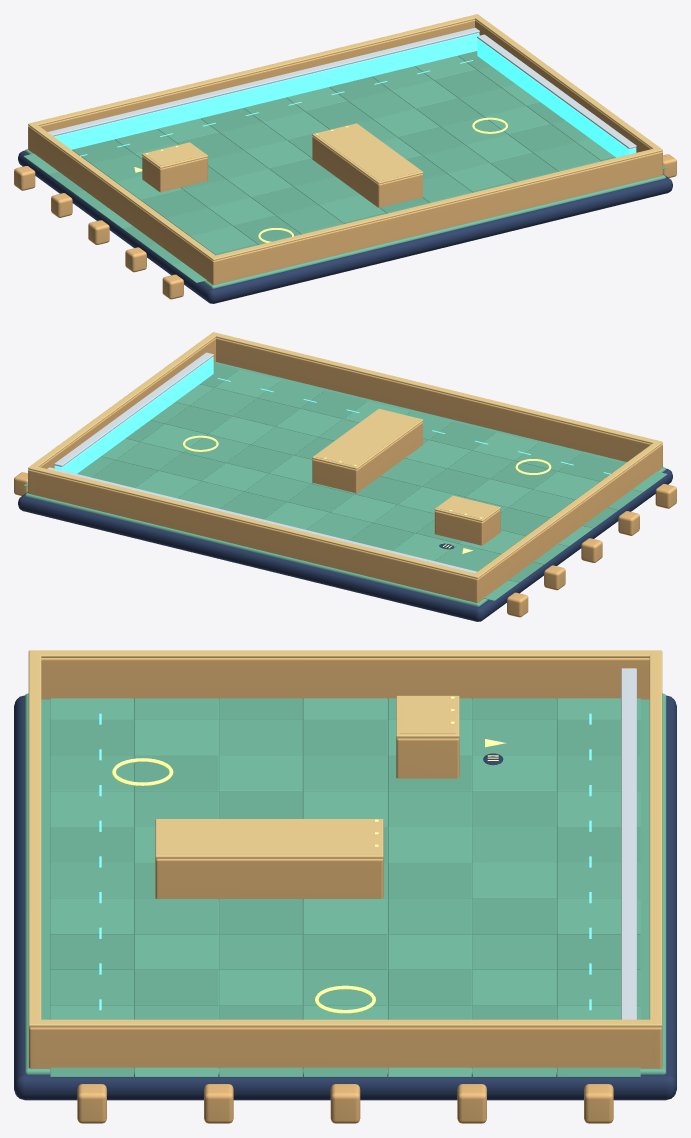
The model's file is reactor.glb.
3 renders of one model, top to bottom at view 1: azimuth 30°, elevation 25°; view 2: azimuth 150°, elevation 25°; view 3: azimuth 270°, elevation 25°, orthographic. The views are drawn at different scales.
Visible parts, largest first — view 1: SOLID 1 border, Floating island, SOLID 6 reflector, SOLID 2 border, SOLID 0 border, SOLID crown 6 reflector, SOLID 7 reflector, SOLID 4 cover, Roof trim, SOLID crown 1 border, SOLID crown 0 border, Ground (+58 smaller); view 2: SOLID 0 border, SOLID 1 border, Floating island, SOLID 2 border, Ground, SOLID 7 reflector, SOLID 4 cover, Roof trim, SOLID crown 0 border, SOLID crown 1 border, SOLID 3 border, SOLID 5 cover (+59 smaller); view 3: SOLID 3 border, SOLID 2 border, Floating island, Ground, SOLID 4 cover, Roof trim, SOLID crown 3 border, SOLID crown 6 reflector, SOLID crown 1 border, SOLID crown 0 border, SOLID crown 2 border, Broad terrain tile.017 (+80 smaller).
Part boxes in pixels (bbox=[...]): SOLID 1 border: bbox=[210, 152, 662, 284]; Floating island: bbox=[18, 150, 672, 303]; SOLID 6 reflector: bbox=[53, 32, 479, 149]; SOLID 2 border: bbox=[28, 126, 218, 284]; SOLID 0 border: bbox=[39, 19, 474, 131]; SOLID crown 6 reflector: bbox=[47, 27, 479, 136]; SOLID 7 reflector: bbox=[477, 38, 636, 157]; SOLID 4 cover: bbox=[312, 136, 422, 207]; Roof trim: bbox=[315, 124, 420, 181]; SOLID crown 1 border: bbox=[210, 147, 662, 260]; SOLID crown 0 border: bbox=[28, 14, 479, 125]; Ground: bbox=[25, 59, 665, 288]; SOLID 0 border: bbox=[29, 470, 480, 602]; SOLID 1 border: bbox=[216, 337, 662, 466]; Floating island: bbox=[18, 468, 672, 621]; SOLID 2 border: bbox=[472, 444, 662, 602]; Ground: bbox=[25, 362, 665, 606]; SOLID 7 reflector: bbox=[54, 356, 213, 473]; SOLID 4 cover: bbox=[312, 422, 422, 493]; Roof trim: bbox=[315, 409, 420, 466]; SOLID crown 0 border: bbox=[28, 465, 480, 578]; SOLID crown 1 border: bbox=[210, 332, 662, 443]; SOLID 3 border: bbox=[28, 338, 215, 494]; SOLID 5 cover: bbox=[434, 509, 500, 545]; SOLID 3 border: bbox=[28, 1027, 662, 1068]; SOLID 2 border: bbox=[41, 658, 649, 699]; Floating island: bbox=[14, 695, 676, 1100]; Ground: bbox=[24, 693, 666, 1074]; SOLID 4 cover: bbox=[155, 858, 383, 899]; Roof trim: bbox=[159, 820, 379, 854]; SOLID crown 3 border: bbox=[28, 1019, 662, 1027]; SOLID crown 6 reflector: bbox=[621, 668, 636, 1019]; SOLID crown 1 border: bbox=[28, 650, 41, 1026]; SOLID crown 0 border: bbox=[649, 650, 662, 1027]; SOLID crown 2 border: bbox=[28, 650, 662, 657]; Broad terrain tile.017: bbox=[303, 755, 387, 791].
Bounding box in the file's own units: 23.7 × 2.03 × 15.7.
